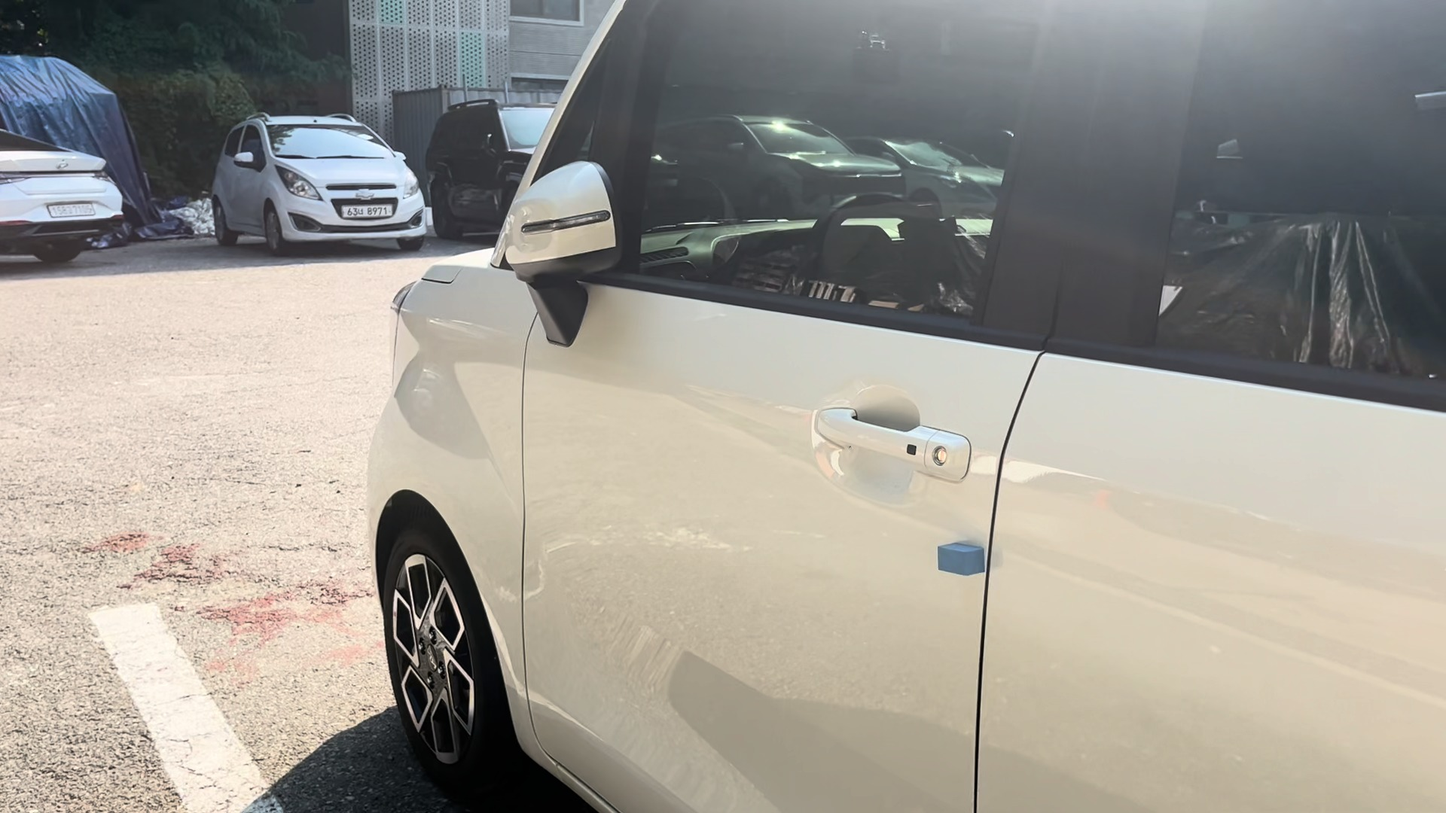door_handle: (813, 412, 975, 477)
side_mirror: (508, 157, 617, 278)
